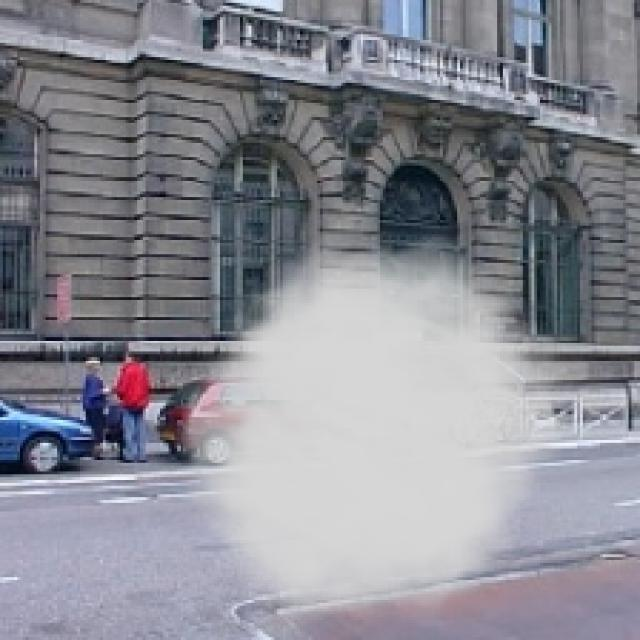Smoke: (160, 232, 586, 637)
